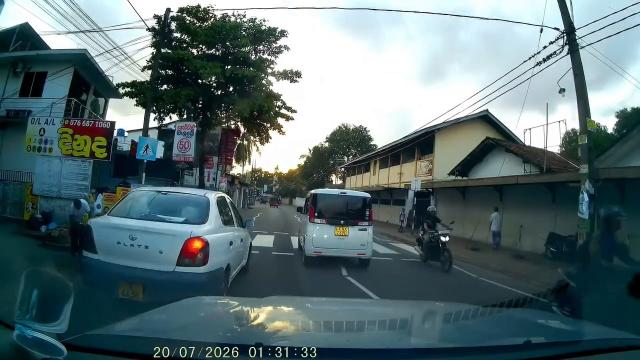illegal overtaking: (283, 169, 386, 265)
number plate: (332, 226, 351, 238)
